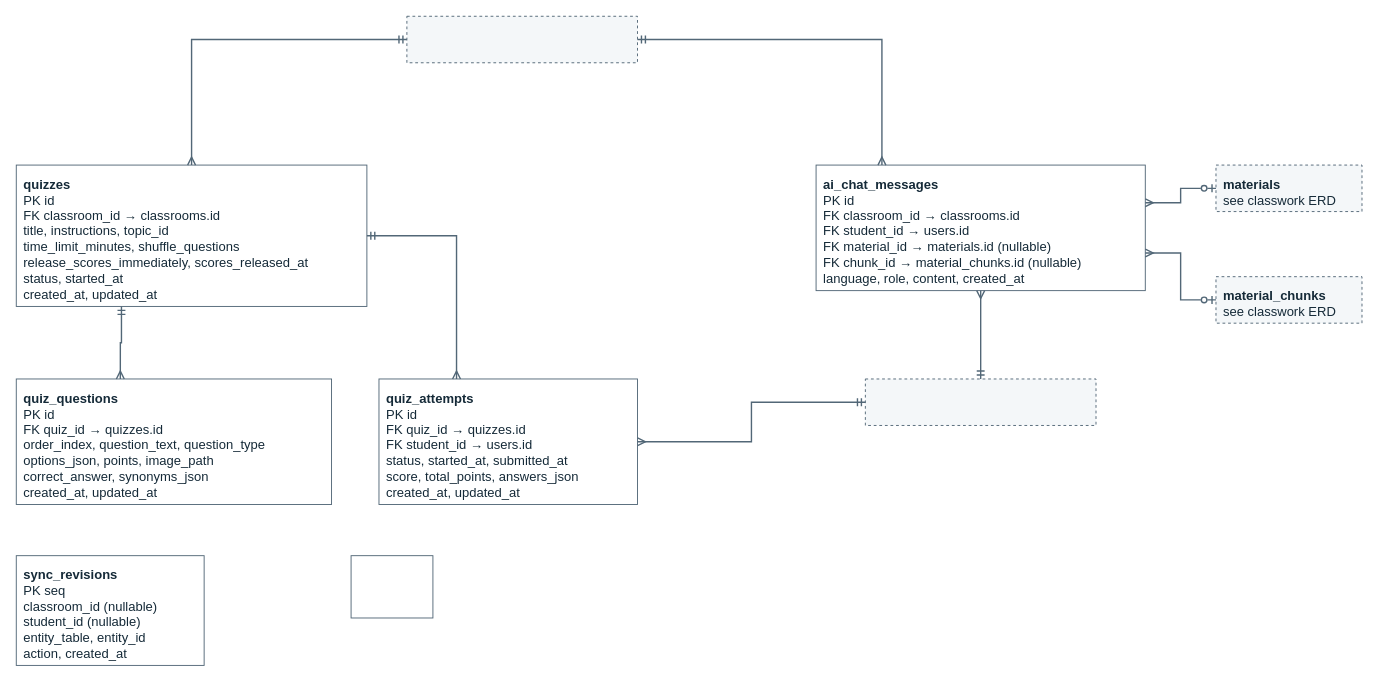
The diagram is 1378 pixels wide and 682 high, and some of its shapes have lost their labels. Here are the shapes that lost their labels. From the top down, the centre of each, then its label:
At pixel 522 39: "classrooms see account and classroom ERD".
At pixel 980 401: "users see account and classroom ERD".
At pixel 391 586: "hub_meta PK key value".
